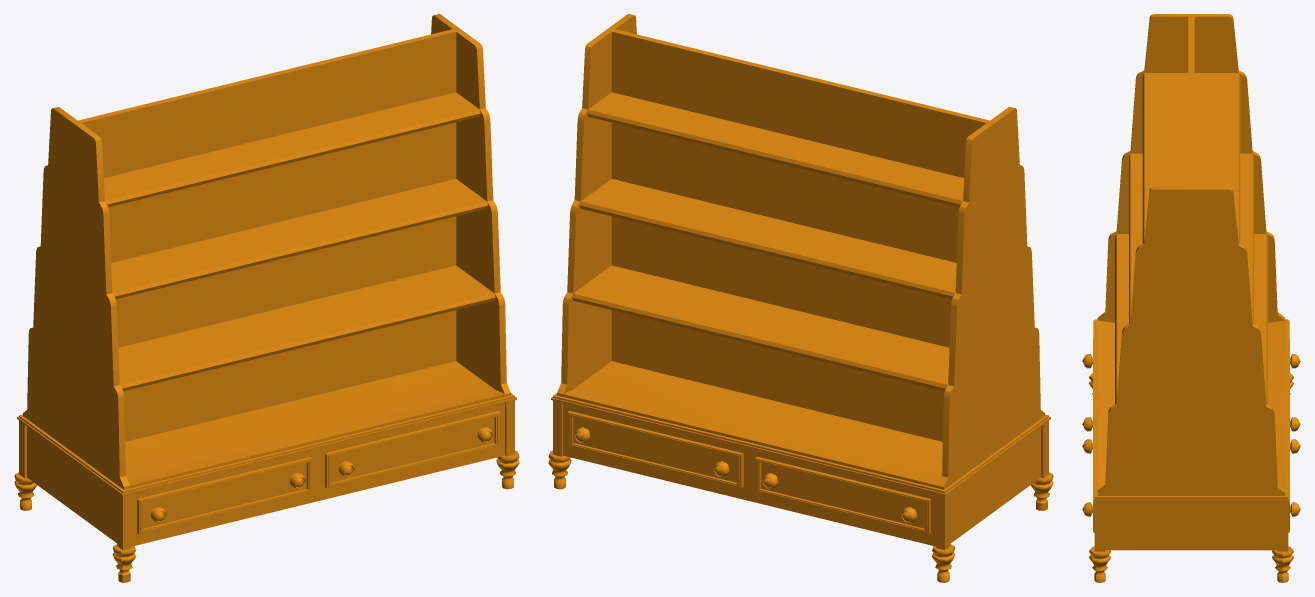
File: Bookshelf-02.fbx
The picture shows the model from 3 angles, left to right: view 1: azimuth 30°, elevation 25°; view 2: azimuth 150°, elevation 25°; view 3: azimuth 270°, elevation 25°; orthographic projection. The views are drawn at different scales.
Visible parts, largest first — view 1: Bookshelf-02_low.001, Bookshelf-Door02_low.001; view 2: Bookshelf-02_low.001, Bookshelf-Door02_low.001; view 3: Bookshelf-02_low.001, Bookshelf-Door02_low.001.
Boxes of the visible parts, left/top/right/bottom form: Bookshelf-02_low.001: left=14, top=14, right=519, bottom=582; Bookshelf-Door02_low.001: left=137, top=411, right=500, bottom=534; Bookshelf-02_low.001: left=548, top=14, right=1053, bottom=582; Bookshelf-Door02_low.001: left=567, top=411, right=930, bottom=534; Bookshelf-02_low.001: left=1089, top=14, right=1293, bottom=582; Bookshelf-Door02_low.001: left=1082, top=339, right=1300, bottom=532.
Bounding box in the file's own units: 209 × 105 × 208.
